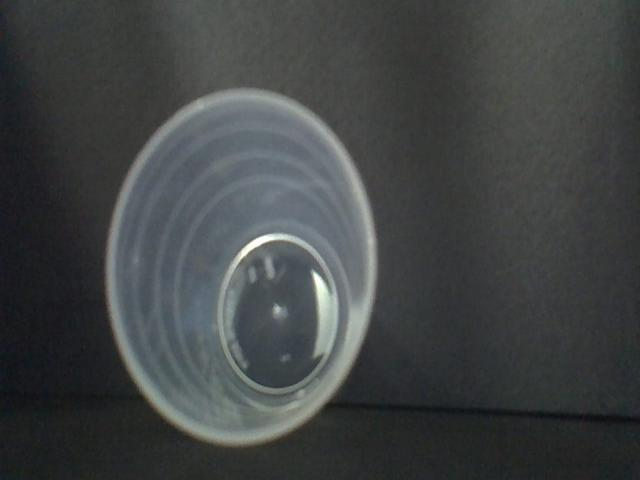cup: (104, 82, 382, 454)
